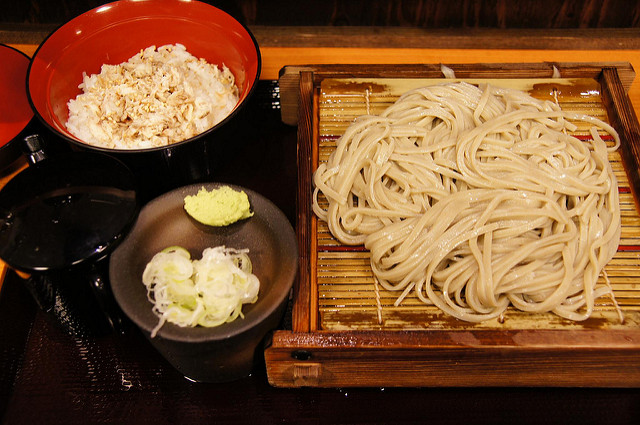Soba: (319, 75, 618, 319)
